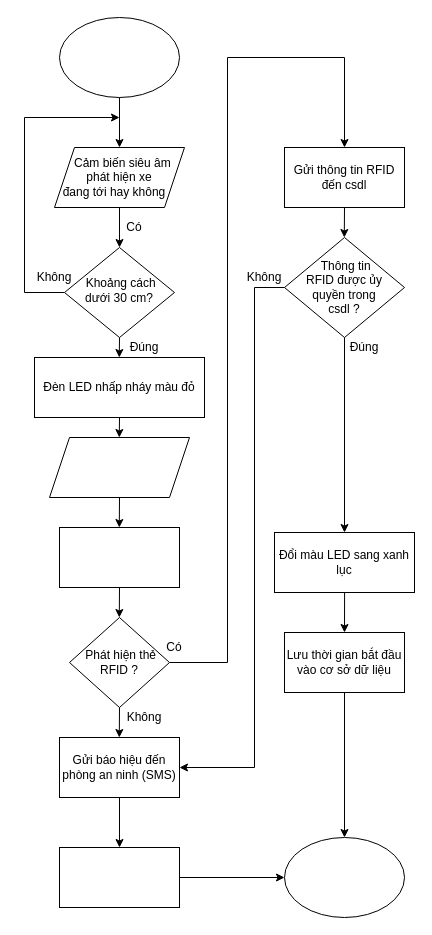
Some shapes in this 432 by 935 pixel diagram are drawn without their labels. Here are the shapes that lost their labels. From the top down, the centre of each, then its label:
At point 119,57: "Bắt đầu".
At point 119,467: "Đầu đọc RFID phát hiện thẻ RFID".
At point 119,557: "Chờ 20 giây".
At point 119,877: "Đổi màu LED sang đỏ".
At point 344,877: "Kết thúc".
